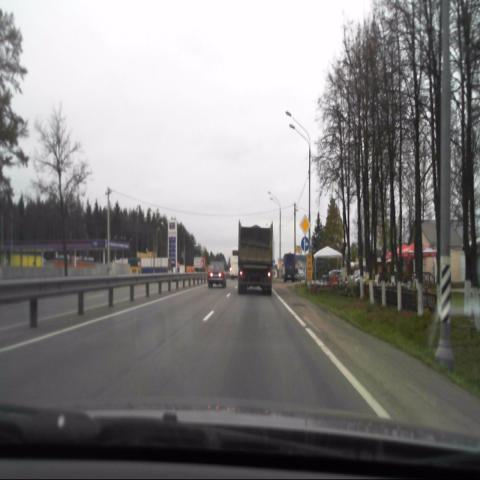2_1: (299, 214, 310, 237)
